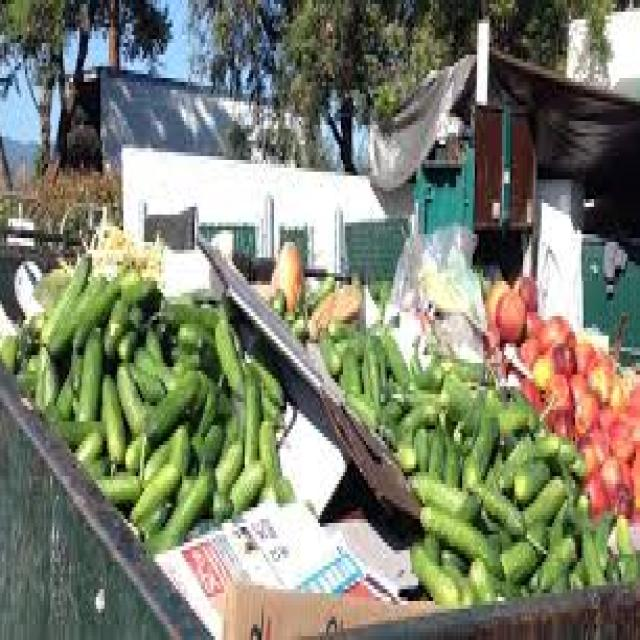Wet: (440, 374, 510, 489), (418, 494, 507, 576), (45, 260, 121, 345), (339, 325, 402, 404), (144, 371, 206, 446), (505, 439, 572, 508), (130, 463, 206, 517), (234, 364, 270, 475), (212, 311, 248, 401), (493, 276, 531, 352), (81, 319, 104, 440), (538, 314, 580, 376), (588, 454, 624, 512), (118, 359, 146, 431), (573, 381, 604, 444)
